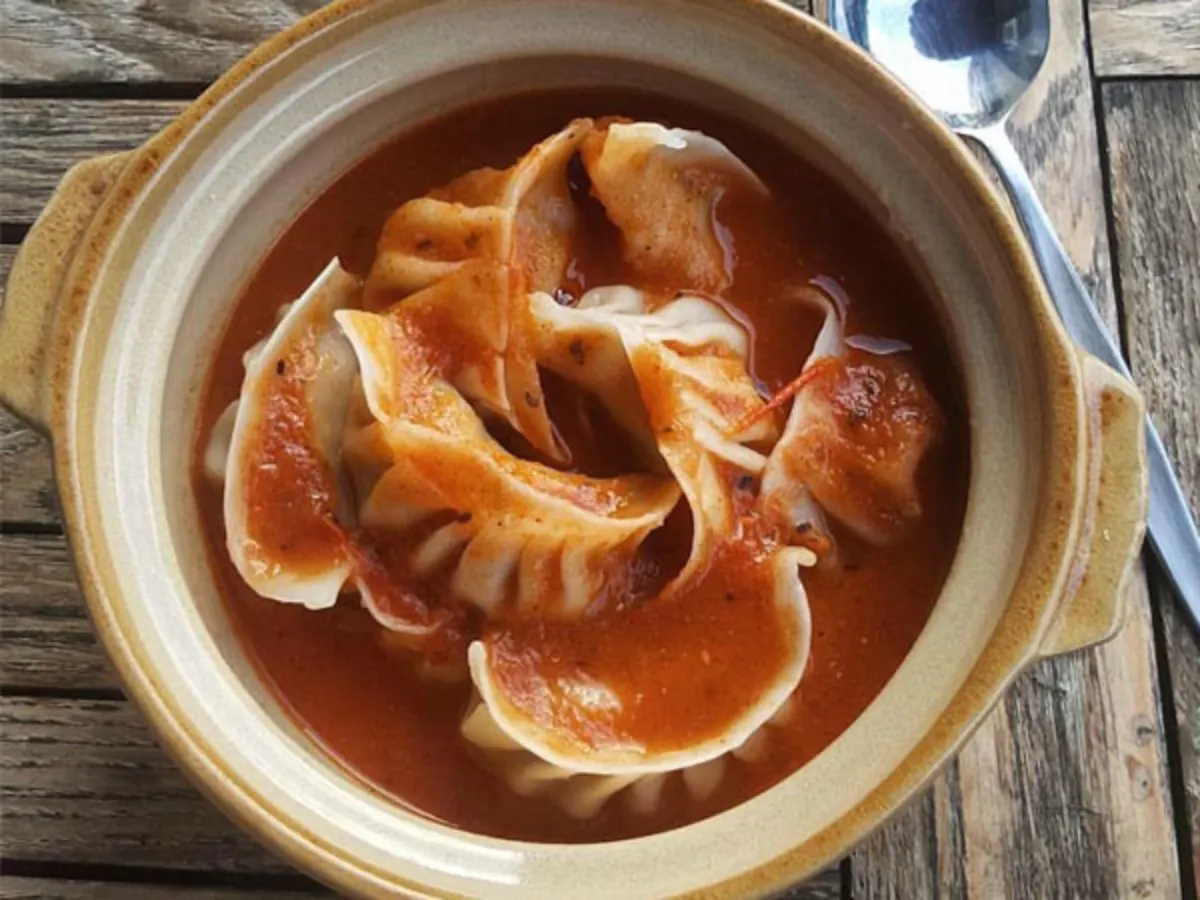momo: (326, 294, 668, 614), (454, 528, 808, 820), (192, 252, 380, 640), (404, 106, 604, 464), (536, 272, 784, 542), (760, 280, 938, 578), (572, 106, 790, 290)
